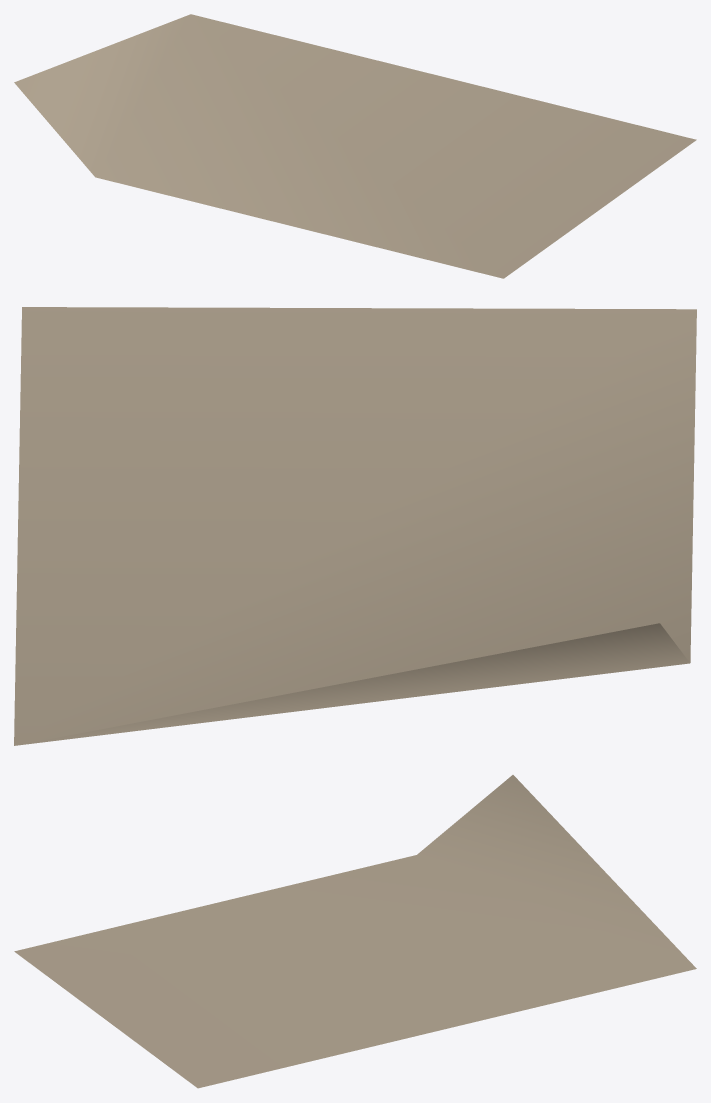
The model's file is S_Paper2.fbx.
3 renders of one model, top to bottom at view 1: azimuth 30°, elevation 25°; view 2: azimuth 150°, elevation 25°; view 3: azimuth 270°, elevation 25°, orthographic. The views are drawn at different scales.
Visible parts, largest first — view 1: S_Paper2; view 2: S_Paper2; view 3: S_Paper2.
Boxes of the visible parts, <box> form: S_Paper2: <box>14,14,696,278</box>; S_Paper2: <box>14,307,696,745</box>; S_Paper2: <box>14,775,696,1088</box>.
Bounding box in the file's own units: 70.81 × 8.65 × 82.13.
